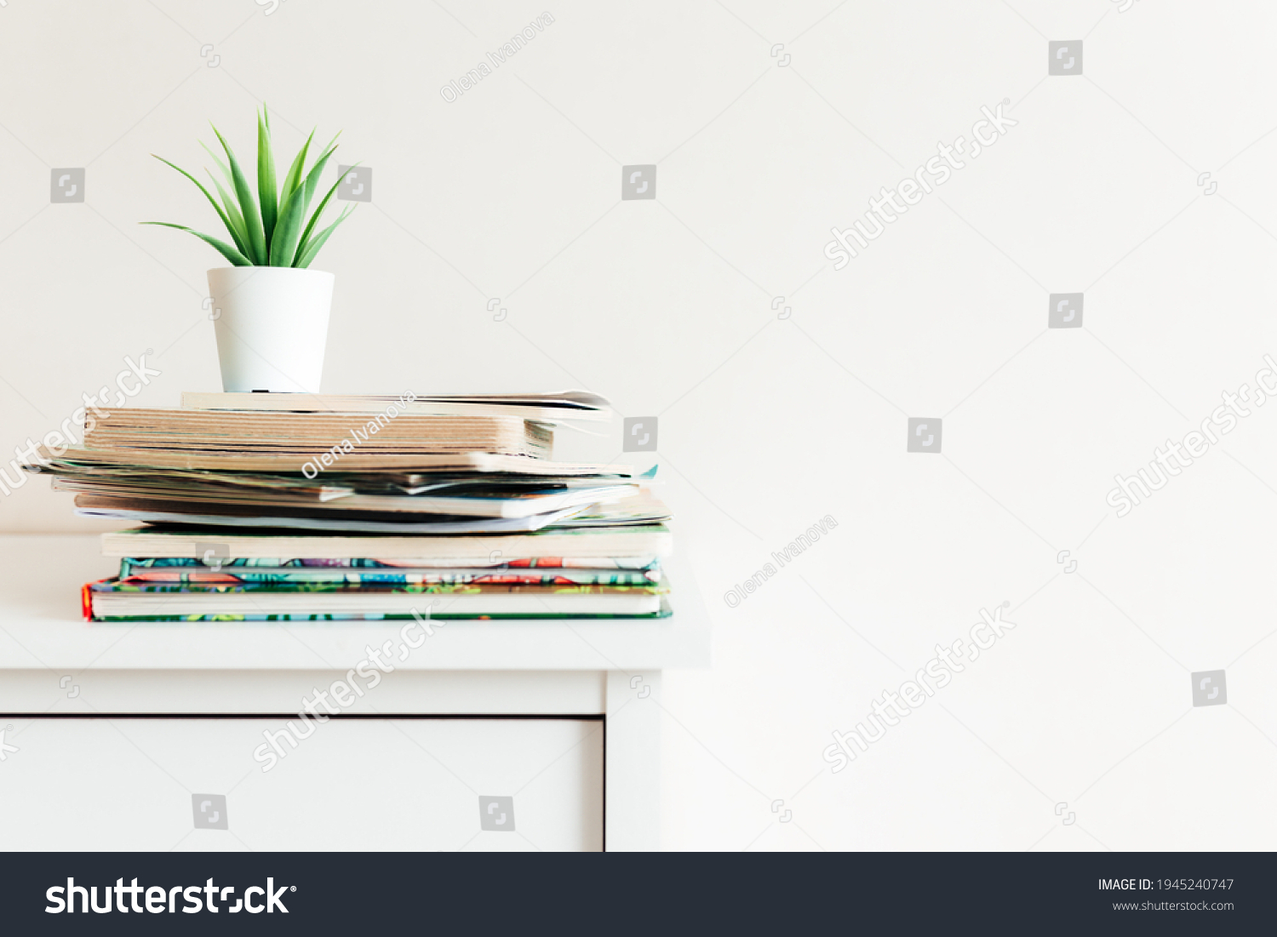not a gesture sign: (0, 0, 1276, 849)
